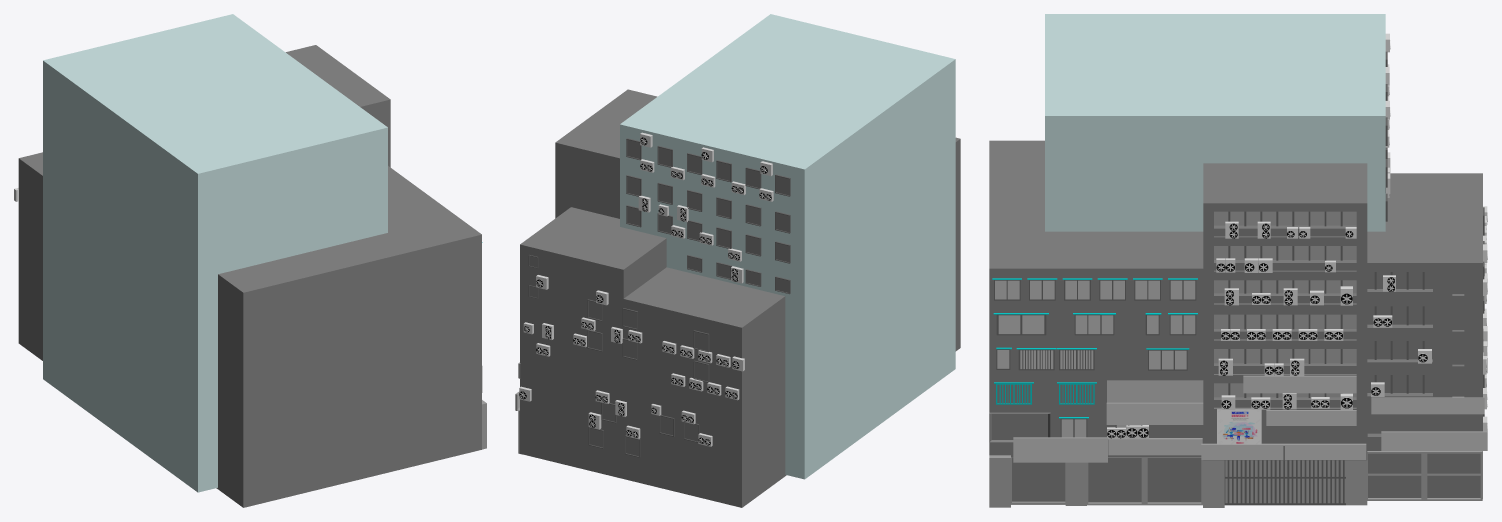
The model's file is B Building.fbx.
3 renders of one model, left to right at view 1: azimuth 30°, elevation 25°; view 2: azimuth 150°, elevation 25°; view 3: azimuth 270°, elevation 25°, orthographic. The views are drawn at different scales.
Visible parts, largest first — view 1: Building; view 2: Building; view 3: Building, Banner_03, Banner_02, Banner_10, Banner_05, Banner_01, Gate_02, Gate_01, Banner_04, Banner_08, Banner_07, Banner_06 (+1 smaller).
Boxes of the visible parts, bbox=[...] form: Building: bbox=[14, 14, 486, 507]; Building: bbox=[518, 14, 960, 507]; Building: bbox=[989, 14, 1487, 507]; Banner_03: bbox=[1013, 437, 1107, 462]; Banner_02: bbox=[1106, 402, 1203, 424]; Banner_10: bbox=[1243, 375, 1356, 393]; Banner_05: bbox=[1381, 431, 1487, 450]; Banner_01: bbox=[1371, 396, 1484, 414]; Gate_02: bbox=[1224, 460, 1288, 505]; Gate_01: bbox=[1288, 460, 1345, 505]; Banner_04: bbox=[1108, 438, 1202, 455]; Banner_08: bbox=[1217, 408, 1261, 444]; Banner_07: bbox=[1266, 410, 1356, 425]; Banner_06: bbox=[1285, 443, 1366, 459].
Bounding box in the file's own units: 42.53 × 48.67 × 62.39.
